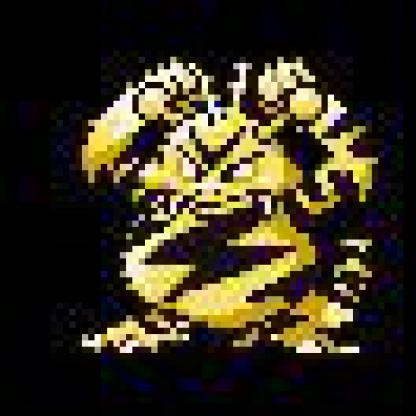Electabuzz: (1, 1, 411, 411)
